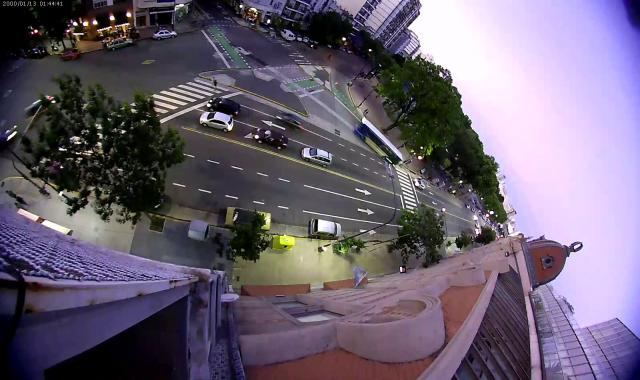bus: (355, 118, 403, 166)
car: (224, 206, 272, 231), (24, 95, 60, 116), (206, 97, 242, 118), (255, 128, 289, 150), (200, 112, 236, 132), (301, 147, 332, 168), (309, 219, 342, 238), (275, 111, 304, 130), (0, 126, 18, 150), (106, 37, 135, 51), (59, 48, 83, 62), (152, 29, 178, 41), (26, 46, 48, 60), (280, 29, 294, 42), (414, 179, 425, 191), (307, 42, 320, 50), (296, 34, 303, 42), (303, 36, 309, 42), (465, 203, 470, 209), (473, 215, 478, 221), (471, 208, 476, 212), (475, 229, 479, 234), (475, 224, 479, 228), (482, 215, 486, 219)
